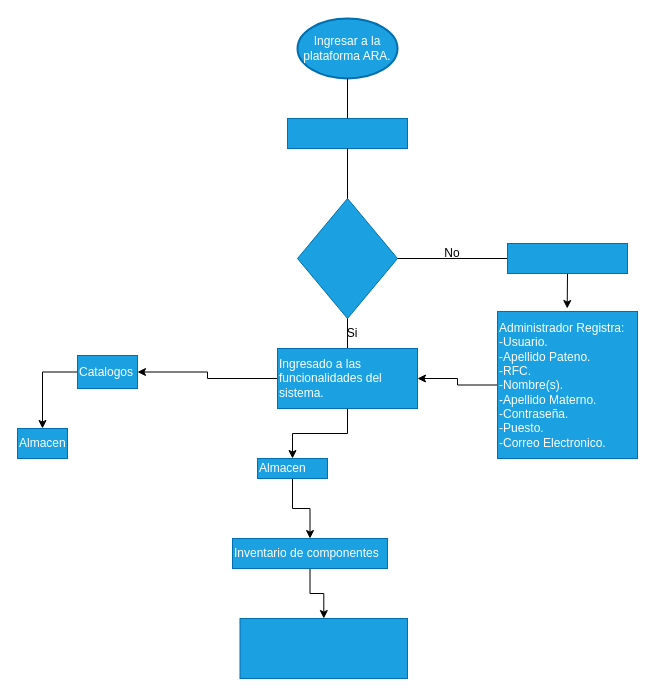
This 655x696 diagram has some shape labels left out. Here are the shapes that lost their labels. From the top down, the box of each, then its label:
(286, 118, 408, 148): Autenticacion de usuario
(296, 198, 398, 318): ¿Esta registrado en el sistema?
(506, 242, 628, 274): Registrar usuarios
(239, 618, 408, 678): Consulta del inventario de comonentes de un almacen.
